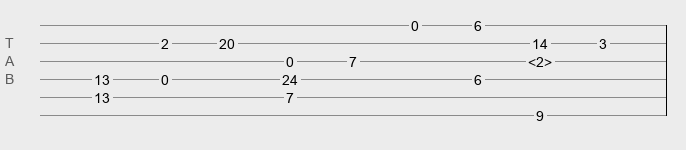0: (161, 72, 169, 82), (286, 54, 294, 64), (411, 18, 419, 28)
13: (94, 90, 110, 100), (94, 72, 110, 82)
14: (532, 36, 548, 46)
2: (161, 36, 169, 46)
20: (219, 36, 235, 46)
24: (282, 72, 298, 82)
3: (599, 36, 607, 46)
6: (474, 18, 482, 28), (474, 72, 482, 82)
7: (286, 90, 294, 100), (349, 54, 357, 64)
9: (536, 108, 544, 118)
harmonic: (528, 54, 552, 64)
